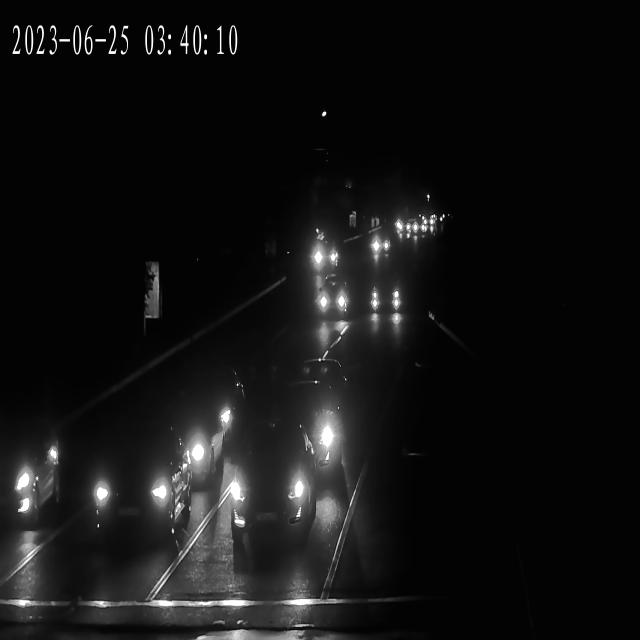Car: (92, 422, 192, 544), (228, 431, 315, 563), (158, 378, 224, 477), (1, 430, 60, 525), (286, 382, 340, 484), (203, 354, 248, 430), (319, 266, 347, 318), (374, 272, 404, 319), (308, 236, 336, 276), (368, 227, 392, 260), (394, 214, 408, 240), (404, 217, 422, 237), (419, 218, 434, 237)
